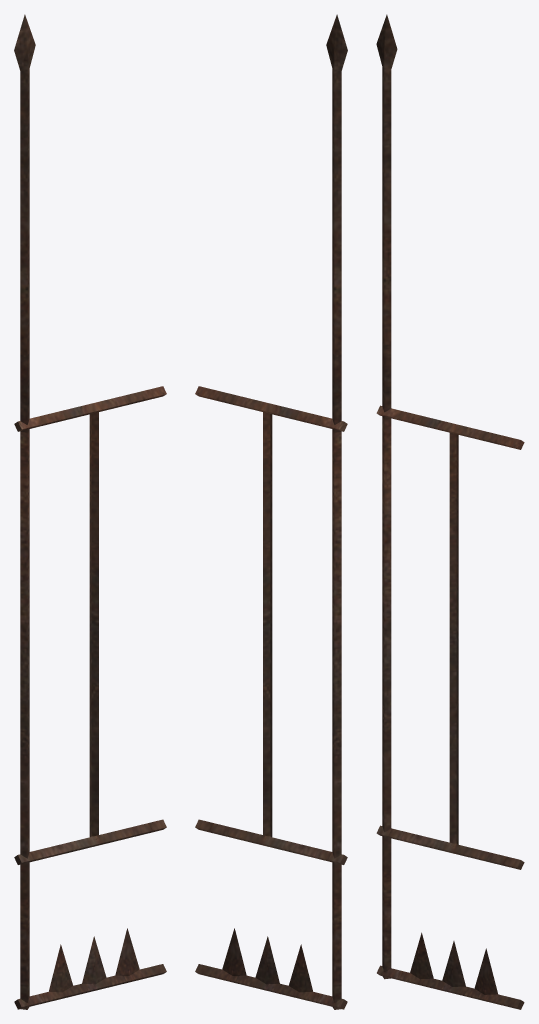
The model's file is barmodule.fbx.
The picture shows the model from 3 angles, left to right: view 1: azimuth 30°, elevation 25°; view 2: azimuth 150°, elevation 25°; view 3: azimuth 330°, elevation 25°; orthographic projection. The views are drawn at different scales.
Parts seen in each view (by area): view 1: Mesh Object; view 2: Mesh Object; view 3: Mesh Object.
Part boxes in pixels (box(x1,y1,x2,y2)): Mesh Object: box(14, 14, 166, 1009); Mesh Object: box(195, 14, 347, 1009); Mesh Object: box(376, 14, 524, 1009).
Bounding box in the file's own units: 0.4322 × 2.75 × 0.0376.
